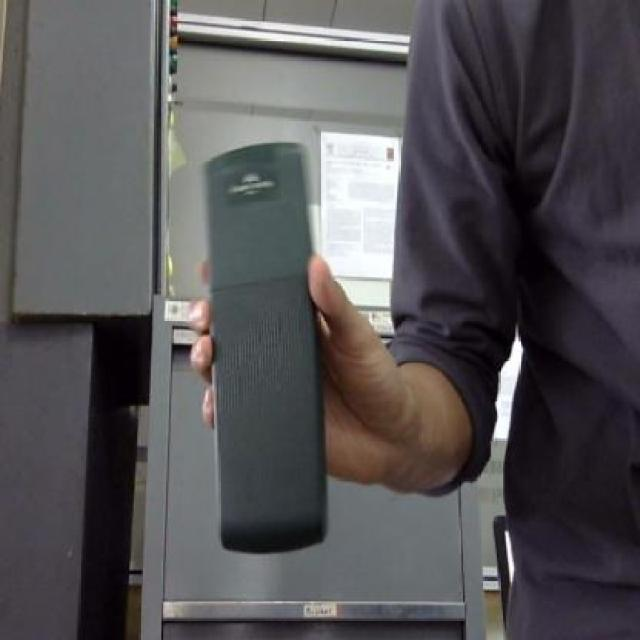Plastic: (197, 126, 336, 563)
